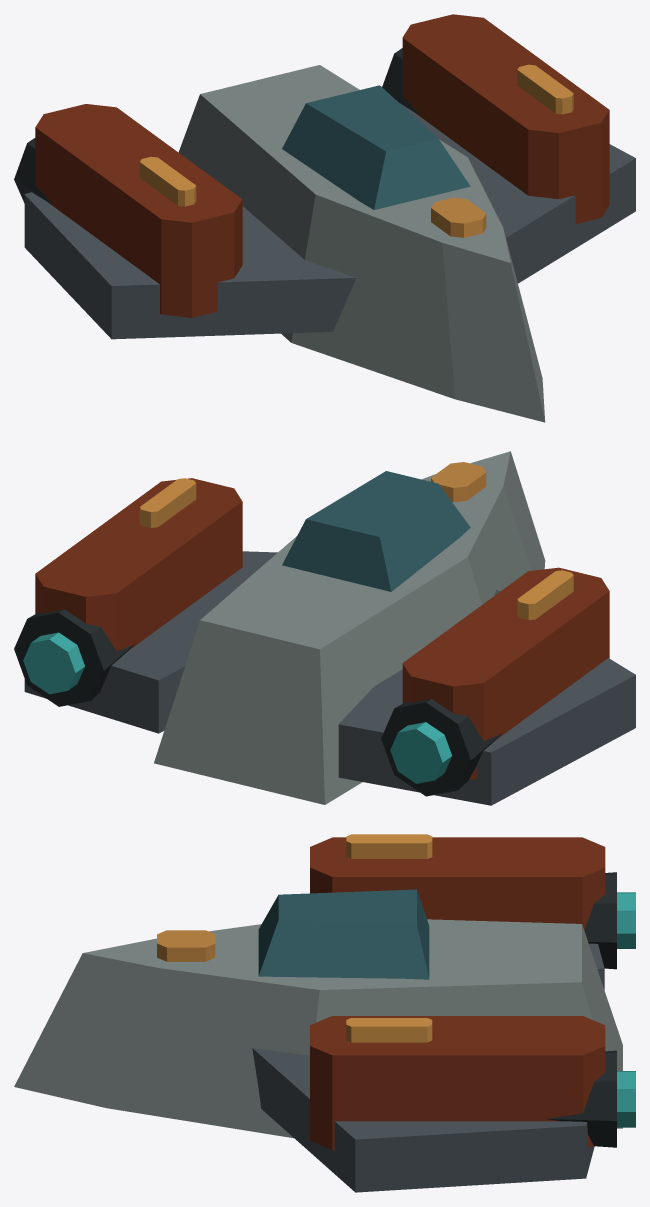
Rendered from light_ship.glb.
The picture shows the model from 3 angles, top to bottom: view 1: azimuth 30°, elevation 25°; view 2: azimuth 150°, elevation 25°; view 3: azimuth 270°, elevation 25°; orthographic projection.
Visible parts, largest first — view 1: light_ship; view 2: light_ship; view 3: light_ship.
Boxes of the visible parts, left/top/right/bottom form: light_ship: left=14, top=14, right=635, bottom=422; light_ship: left=14, top=451, right=635, bottom=805; light_ship: left=14, top=834, right=635, bottom=1192.
Bounding box in the file's own units: 0.98 × 0.322 × 1.01.
